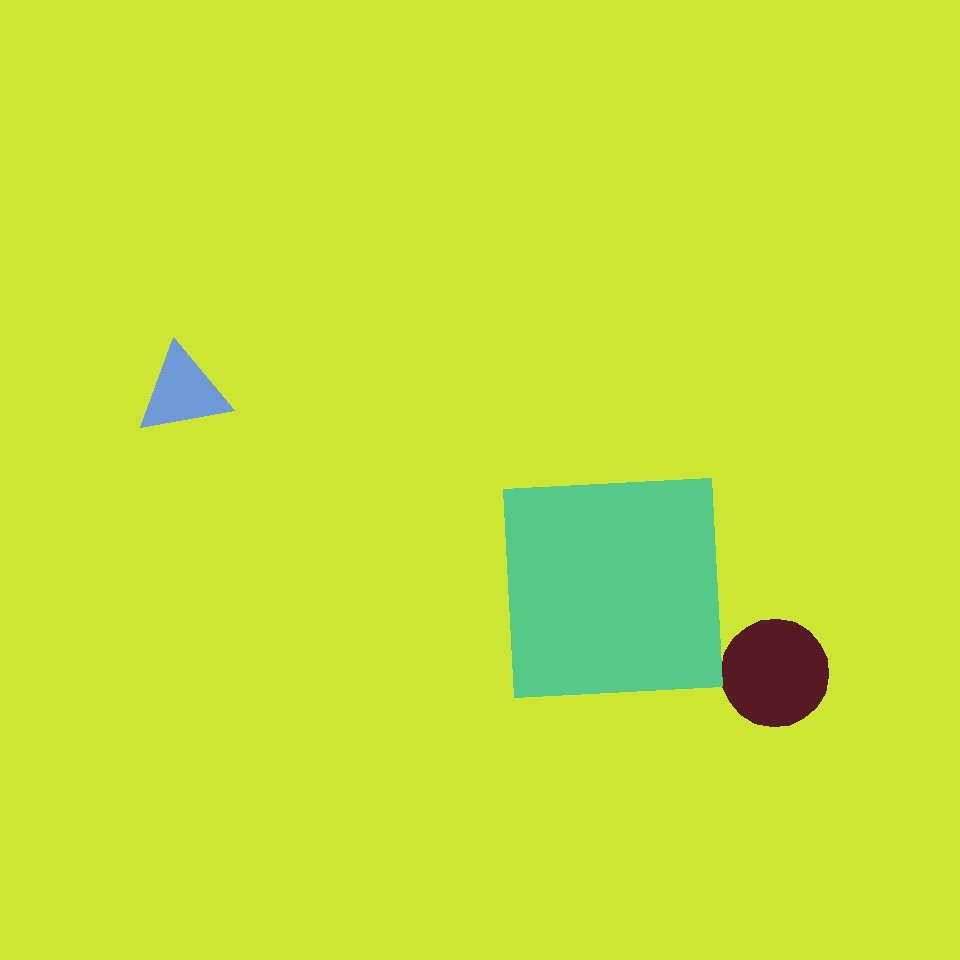circle: (136, 347, 230, 437)
square: (504, 479, 722, 698)
triangle: (510, 492, 656, 638), (721, 620, 828, 726)
